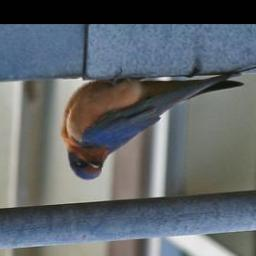Swallow: (60, 64, 256, 181)
